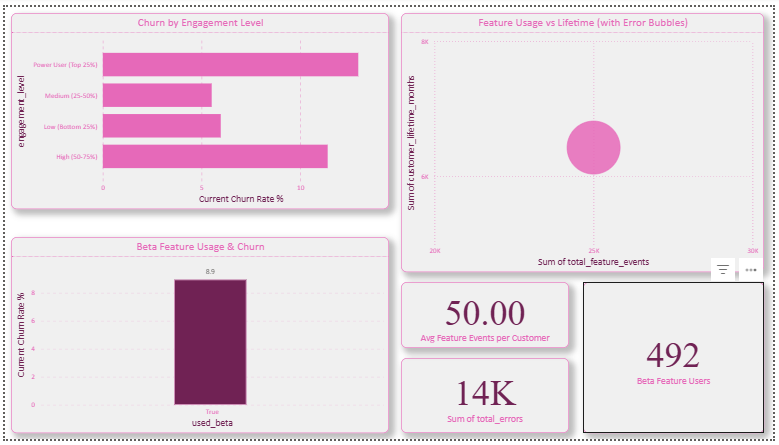

This screenshot's page, from the dashboard's own definition file:
{"tool":"powerbi","page":{"name":"Feature Engagement & Beta","canvas":[1280,720],"ordinal":3},"visuals":[{"type":"clusteredBarChart","title":"Churn by Engagement Level","fields":{"Category":["ravenstack_master_analysis_final.engagement_level"],"Y":["ravenstack_master_analysis_final.Current Churn Rate %"]},"box":[10,10,630,326.7],"z":0},{"type":"clusteredColumnChart","title":"Beta Feature Usage & Churn","fields":{"Category":["ravenstack_master_analysis_final.used_beta"],"Y":["ravenstack_master_analysis_final.Current Churn Rate %"]},"box":[10,383.3,630,326.7],"z":1000},{"type":"scatterChart","title":"Feature Usage vs Lifetime (with Error Bubbles)","fields":{"X":["Sum(ravenstack_master_analysis_final.total_feature_events)"],"Y":["Sum(ravenstack_master_analysis_final.customer_lifetime_months)"],"Size":["Sum(ravenstack_master_analysis_final.total_errors)"]},"box":[660,10,605,431.7],"z":2000},{"type":"card","fields":{"Values":["ravenstack_master_analysis_final.Beta Feature Users"]},"box":[963.3,458.3,301.7,251.7],"z":3000},{"type":"card","fields":{"Values":["Sum(ravenstack_master_analysis_final.total_errors)"]},"box":[660,585,280,125],"z":4000},{"type":"card","fields":{"Values":["ravenstack_master_analysis_final.Avg Feature Events per Customer"]},"box":[660,458.3,280,110],"z":5000}]}

Visuals, with their boxes in screenshot pixels (x1, y1, x2, y2), scaled from the page's 1280x720 canvas onto the 779x445 screenshot:
"Churn by Engagement Level" clusteredBarChart: Rect(6, 6, 390, 208)
"Beta Feature Usage & Churn" clusteredColumnChart: Rect(6, 237, 390, 439)
"Feature Usage vs Lifetime (with Error Bubbles)" scatterChart: Rect(402, 6, 770, 273)
card - ravenstack_master_analysis_final.Beta Feature Users: Rect(586, 283, 770, 439)
card - Sum(ravenstack_master_analysis_final.total_errors): Rect(402, 362, 572, 439)
card - ravenstack_master_analysis_final.Avg Feature Events per Customer: Rect(402, 283, 572, 351)
